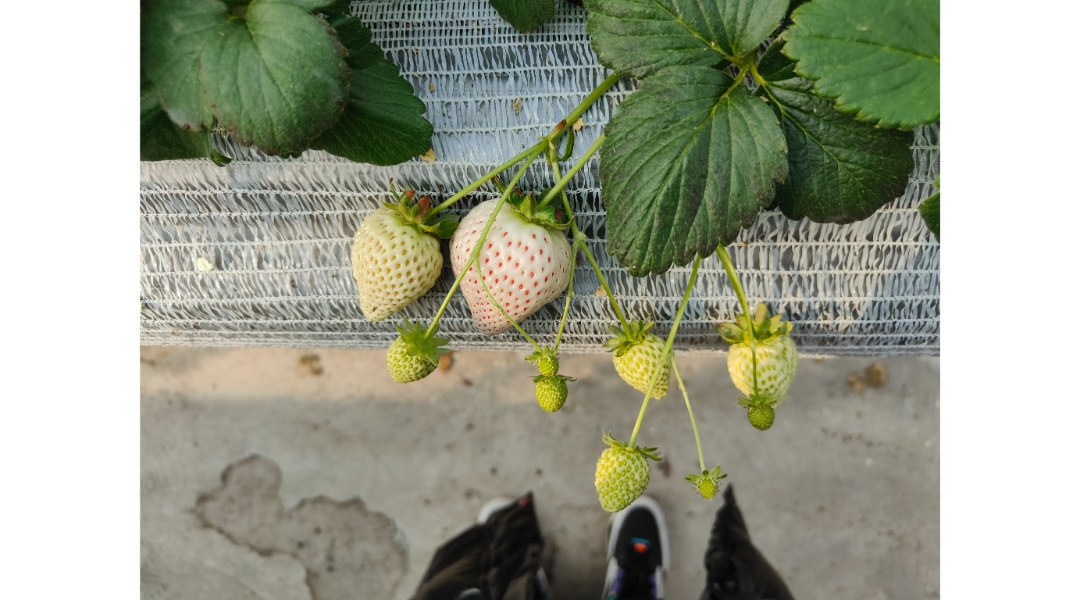berry: (450, 184, 582, 362), (331, 198, 442, 323), (727, 312, 808, 410), (606, 317, 677, 404), (595, 425, 655, 521), (382, 318, 442, 393), (530, 374, 570, 419), (693, 463, 733, 508), (743, 396, 776, 443), (525, 354, 571, 378)
strain: (626, 266, 696, 449), (426, 144, 535, 215), (556, 66, 622, 142), (468, 172, 520, 261), (483, 275, 538, 342), (673, 368, 702, 467), (590, 261, 629, 333), (719, 249, 750, 336), (428, 276, 464, 342), (559, 261, 581, 358), (747, 350, 764, 387)
